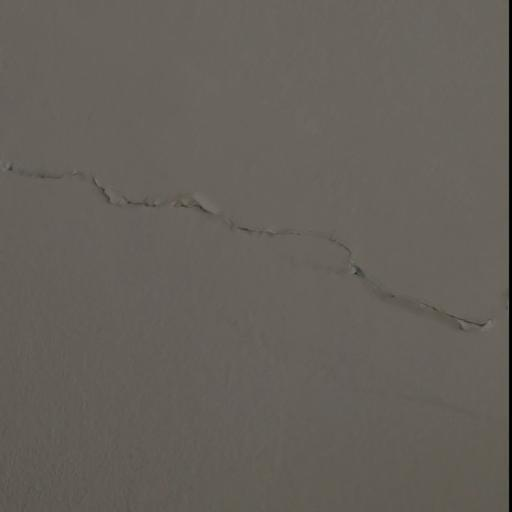minor_crack: (0, 140, 512, 349)
